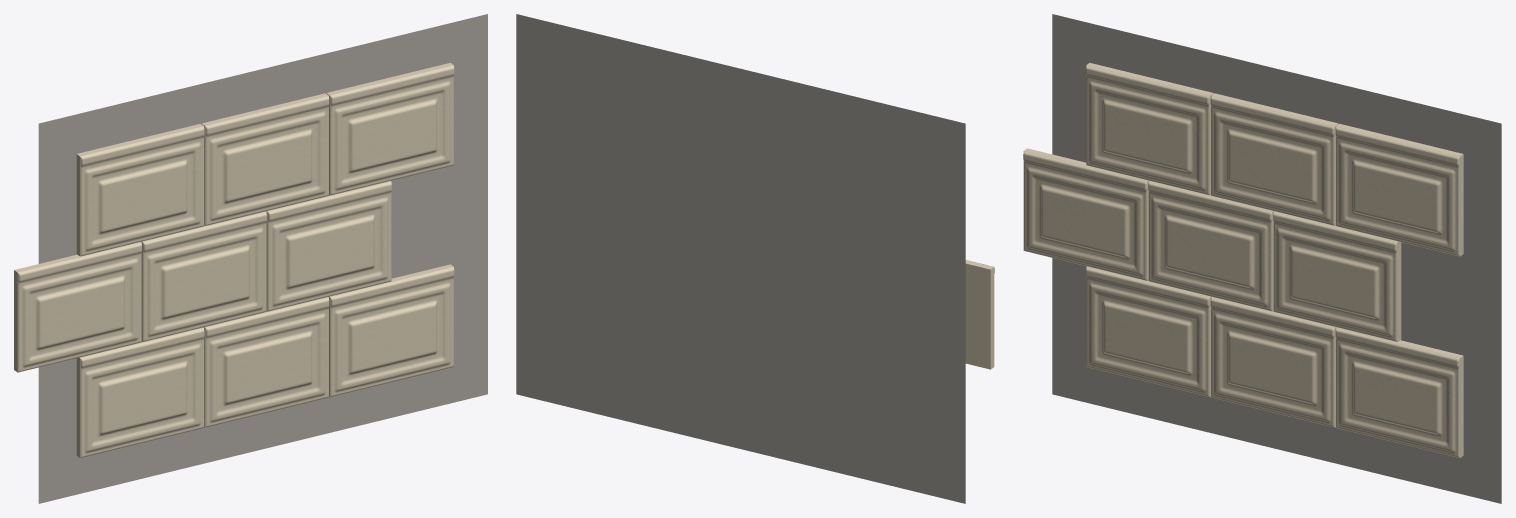
Rendered from terilgan.glb.
The picture shows the model from 3 angles, left to right: view 1: azimuth 30°, elevation 25°; view 2: azimuth 150°, elevation 25°; view 3: azimuth 330°, elevation 25°; orthographic projection.
Visible parts, largest first — view 1: Plane, t2_0, t1_0, t0_0, t2_1, t2_2, t0_2, t1_2, t1_1, t0_1; view 2: Plane, t1_0; view 3: Plane, t2_2, t0_2, t1_2, t2_1, t2_0, t1_0, t1_1, t0_1, t0_0.
Boxes of the visible parts, x1,y1,x2,y2 form: Plane: (38, 14, 487, 503); t2_0: (76, 123, 204, 256); t1_0: (14, 242, 141, 372); t0_0: (76, 327, 204, 457); t2_1: (201, 93, 329, 225); t2_2: (326, 63, 454, 195); t0_2: (328, 264, 454, 396); t1_2: (266, 181, 391, 311); t1_1: (141, 211, 266, 341); t0_1: (204, 297, 329, 427); Plane: (516, 14, 965, 503); t1_0: (965, 260, 994, 369); Plane: (1052, 14, 1501, 503); t2_2: (1335, 123, 1463, 256); t0_2: (1335, 327, 1463, 457); t1_2: (1273, 211, 1401, 341); t2_1: (1210, 93, 1338, 225); t2_0: (1086, 63, 1213, 195); t1_0: (1023, 148, 1148, 280); t1_1: (1148, 181, 1273, 311); t0_1: (1210, 297, 1336, 427); t0_0: (1086, 266, 1211, 397).
Size of the model in its own units: 1.91 by 1.46 by 0.0419.
